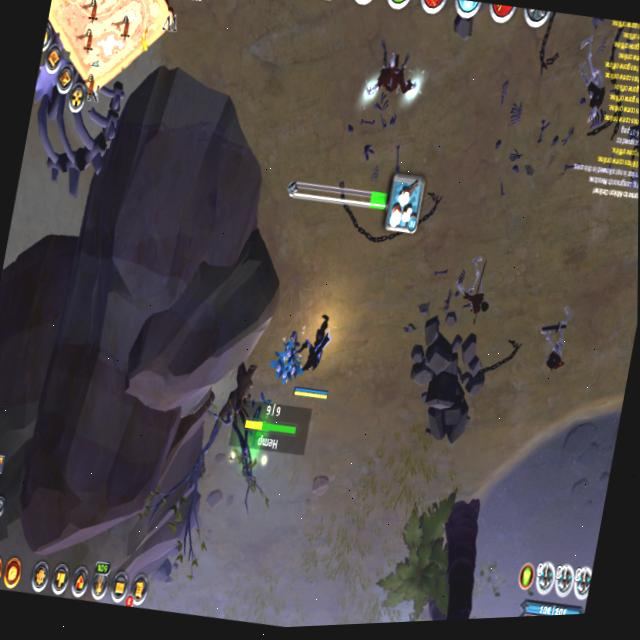hide: (266, 325, 309, 394)
ore: (361, 28, 436, 114), (560, 22, 619, 131), (446, 246, 502, 332), (530, 296, 578, 383)
red: (288, 308, 343, 411)
